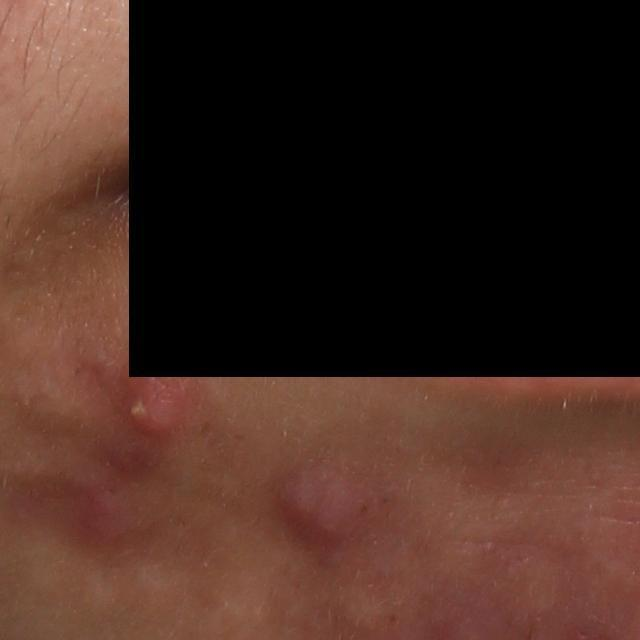papule: (274, 457, 368, 555), (497, 542, 561, 627), (71, 483, 143, 546)
pustule: (114, 375, 188, 444)
